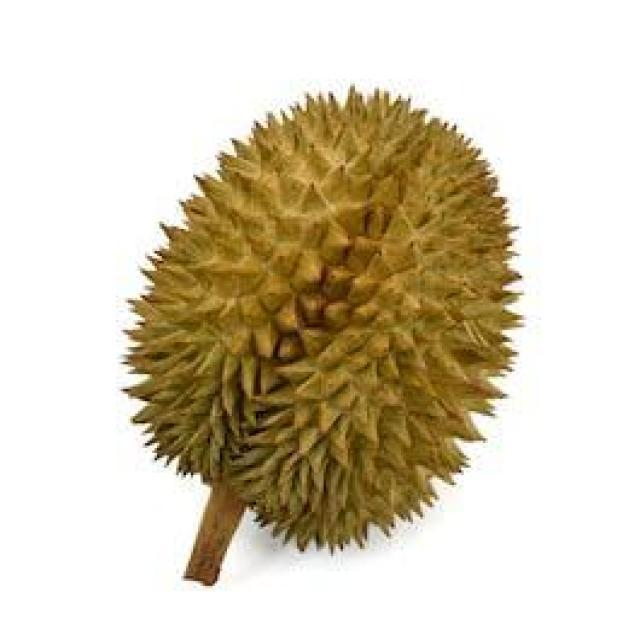mature: (128, 90, 518, 548)
